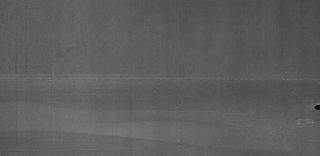punching hole: (310, 102, 320, 112)
welding line: (1, 74, 319, 89)
